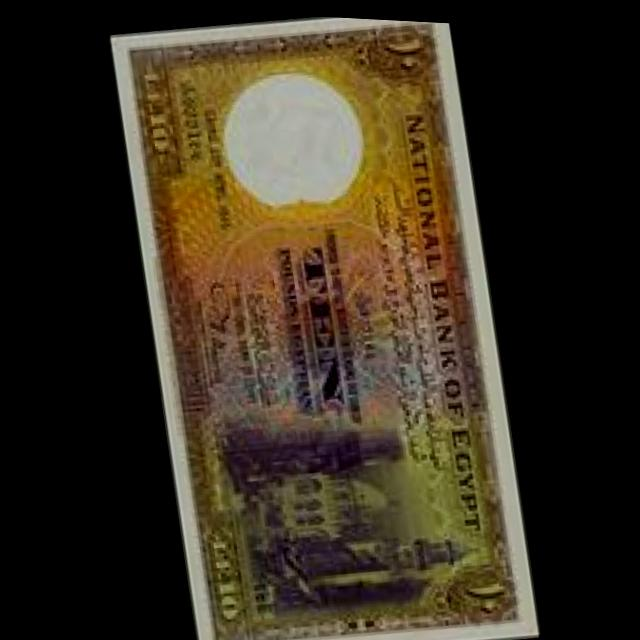banknote: (106, 4, 543, 640)
